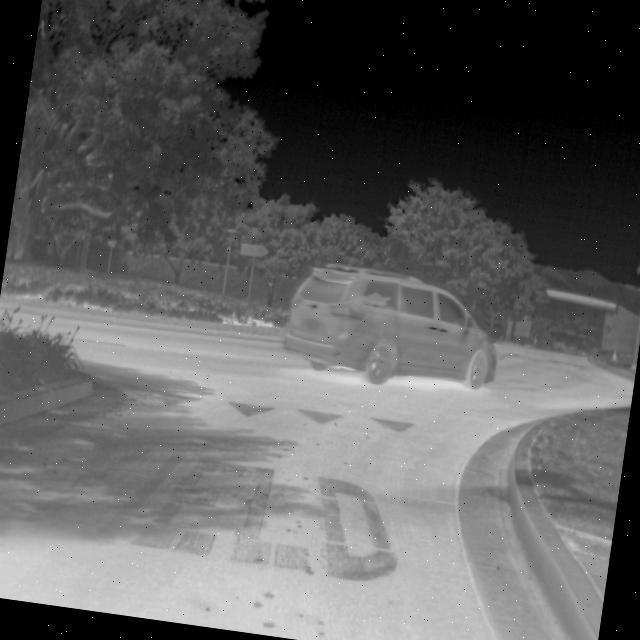Vehicle: (274, 252, 511, 402)
